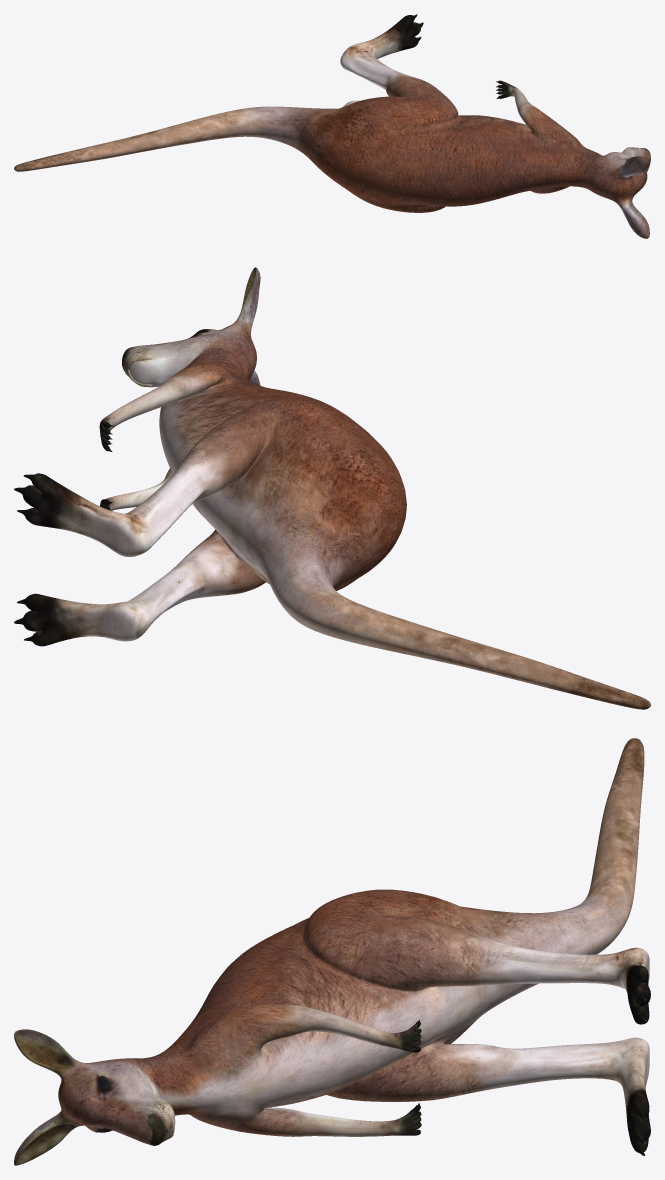
The model's file is 12271_Kangaroo_v1_L3.obj.
The picture shows the model from 3 angles, top to bottom: view 1: azimuth 30°, elevation 25°; view 2: azimuth 150°, elevation 25°; view 3: azimuth 270°, elevation 25°; orthographic projection. The views are drawn at different scales.
Parts seen in each view (by area): view 1: Kangaroo; view 2: Kangaroo; view 3: Kangaroo.
Boxes of the visible parts, left/top/right/bottom form: Kangaroo: left=14, top=14, right=650, bottom=238; Kangaroo: left=14, top=267, right=650, bottom=709; Kangaroo: left=14, top=738, right=650, bottom=1165.
Size of the model in its own units: 311 by 67.72 by 212.
Materials: 2 (2 with a texture image).
